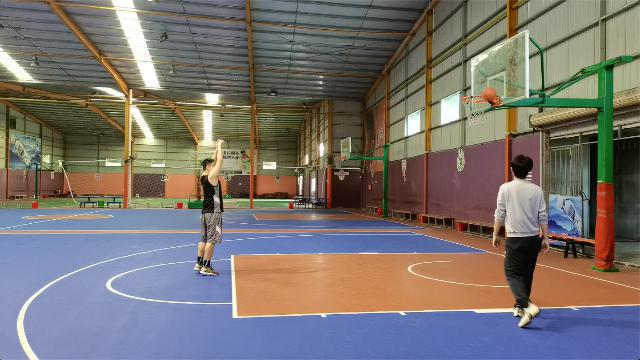ball: (482, 87, 496, 100)
